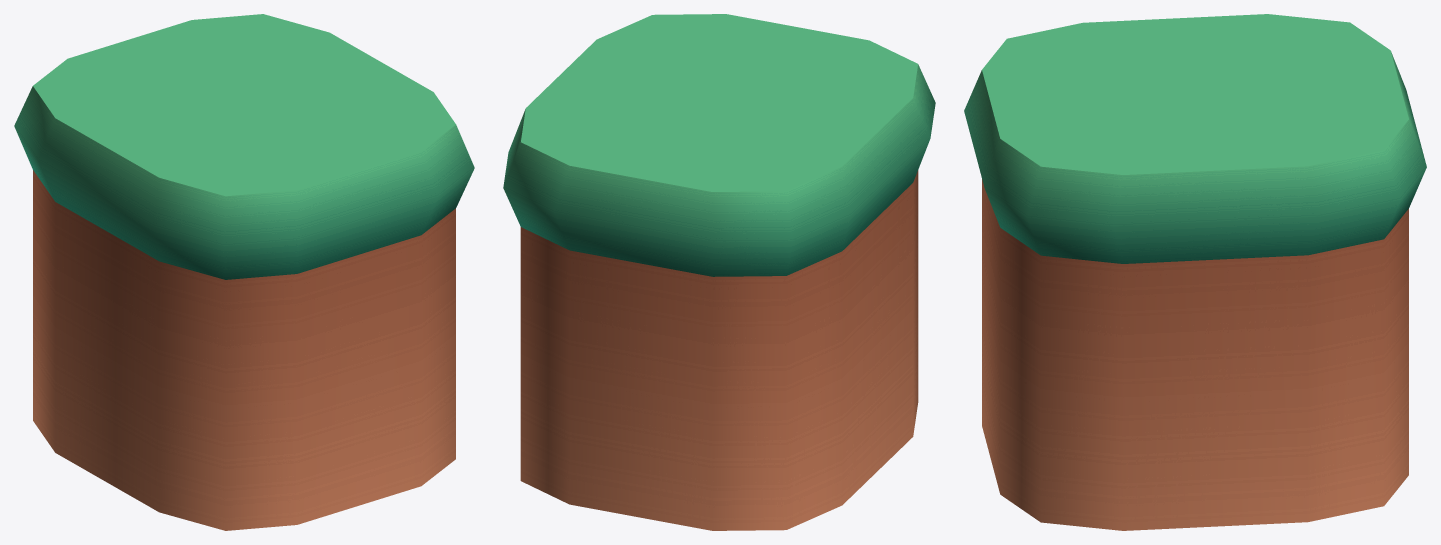
Rendered from block-grass.001_lev2.glb.
3 renders of one model, left to right at view 1: azimuth 30°, elevation 25°; view 2: azimuth 150°, elevation 25°; view 3: azimuth 270°, elevation 25°, orthographic. The views are drawn at different scales.
Parts seen in each view (by area): view 1: block-grass.001_lev2; view 2: block-grass.001_lev2; view 3: block-grass.001_lev2.
Part boxes in pixels (x1,y1,x2,y2): block-grass.001_lev2: (14, 14, 474, 530); block-grass.001_lev2: (503, 14, 935, 530); block-grass.001_lev2: (964, 14, 1426, 530).
Size of the model in its own units: 3.91 by 3.72 by 4.38.
Materials: 1 (1 with a texture image).
